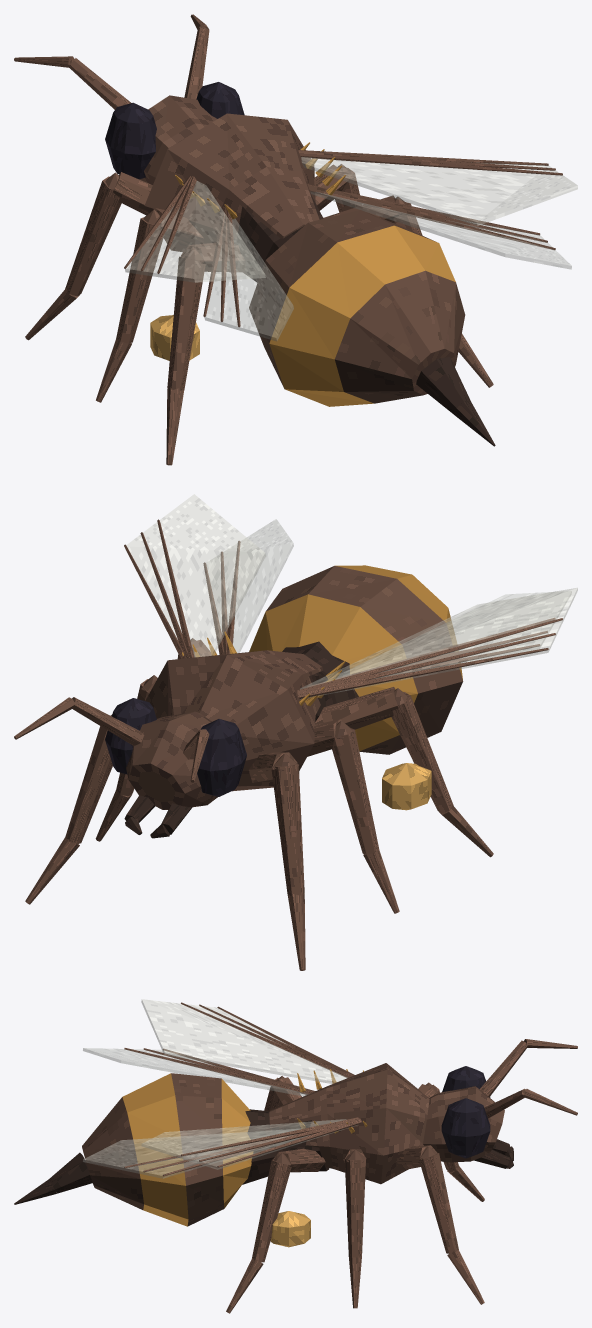
Rendered from mon_bee_small.glb.
3 renders of one model, top to bottom at view 1: azimuth 30°, elevation 25°; view 2: azimuth 150°, elevation 25°; view 3: azimuth 270°, elevation 25°, orthographic. The views are drawn at different scales.
Visible parts, largest first — view 1: closed_body, glazing; view 2: closed_body, glazing; view 3: closed_body, glazing.
Boxes of the visible parts, left/top/right/bottom form: closed_body: left=14, top=14, right=562, bottom=465; glazing: left=125, top=157, right=577, bottom=341; closed_body: left=14, top=519, right=562, bottom=970; glazing: left=125, top=494, right=577, bottom=699; closed_body: left=14, top=1002, right=577, bottom=1313; glazing: left=83, top=999, right=357, bottom=1178.
Size of the model in its own units: 0.8027 by 0.4409 by 1.2.
2 materials, 2 textured.
